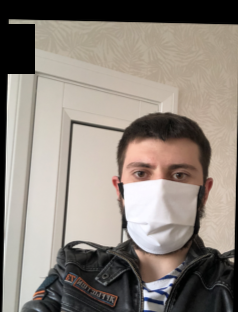with_mask: (116, 155, 203, 256)
